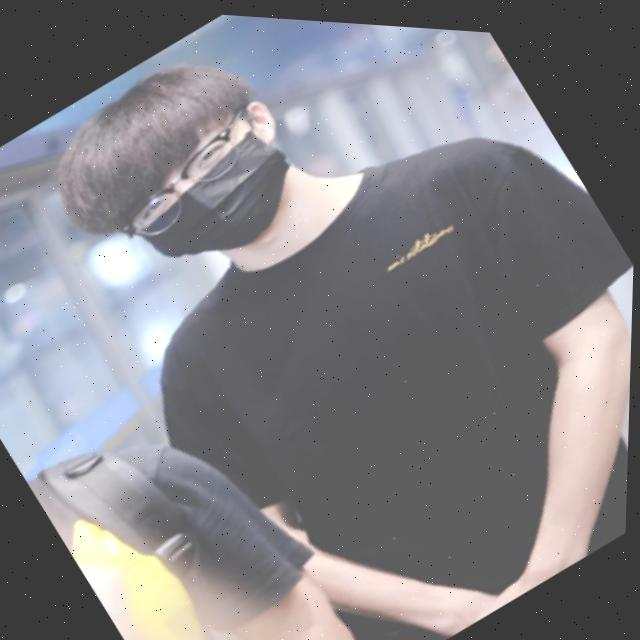Mask: (131, 118, 321, 289)
